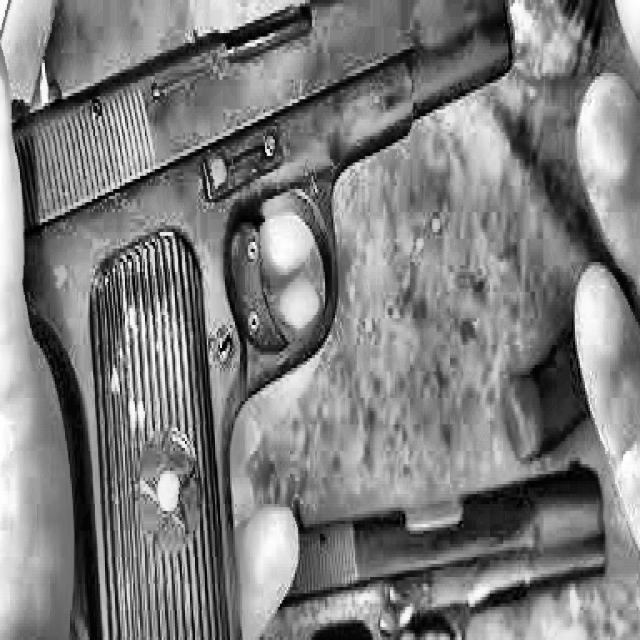Norinco: (0, 0, 513, 640), (255, 451, 615, 640)
